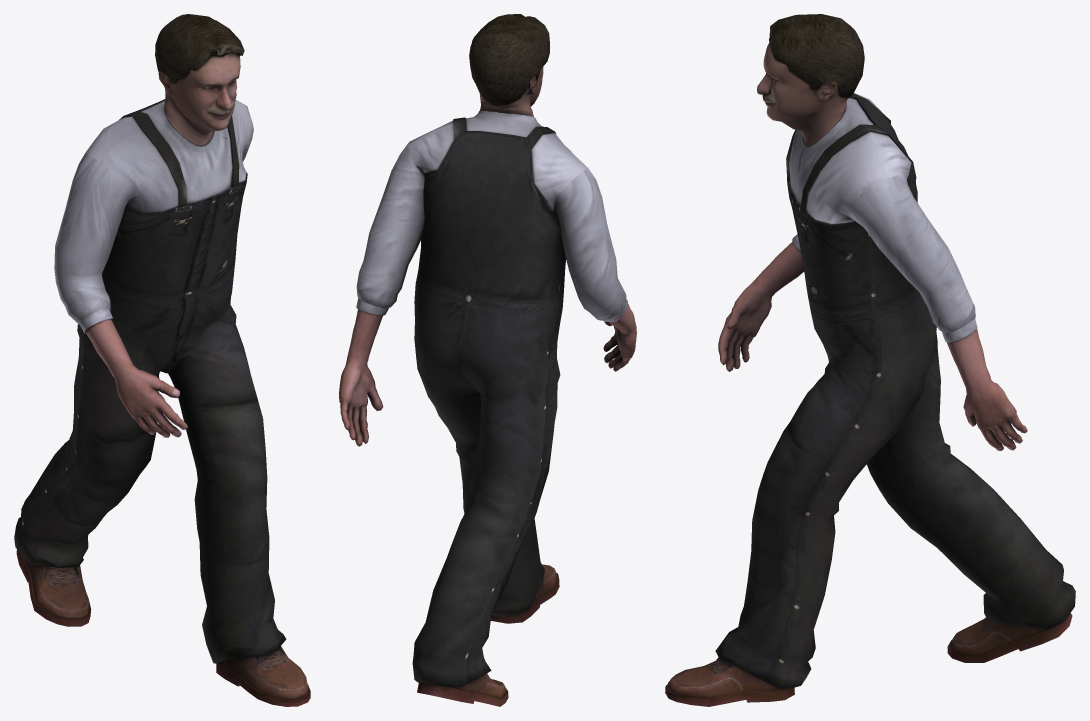
File: SWRK01_04_03.FBX
3 renders of one model, left to right at view 1: azimuth 30°, elevation 25°; view 2: azimuth 150°, elevation 25°; view 3: azimuth 270°, elevation 25°, orthographic. The views are drawn at different scales.
Visible parts, largest first — view 1: SWRK01_04_03; view 2: SWRK01_04_03; view 3: SWRK01_04_03.
Boxes of the visible parts, x1,y1,x2,y2 form: SWRK01_04_03: [14, 14, 310, 706]; SWRK01_04_03: [339, 14, 636, 706]; SWRK01_04_03: [665, 14, 1075, 706].
Size of the model in its own units: 23.54 by 66.71 by 37.53.
1 material, 1 textured.
